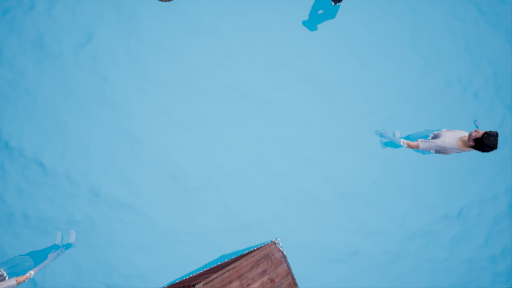person: (369, 118, 504, 168)
